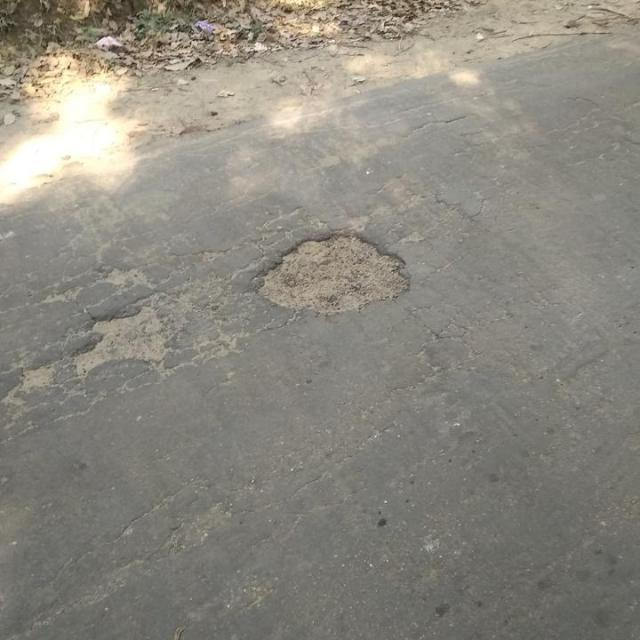Pothole: (256, 229, 414, 318), (74, 301, 176, 381)
